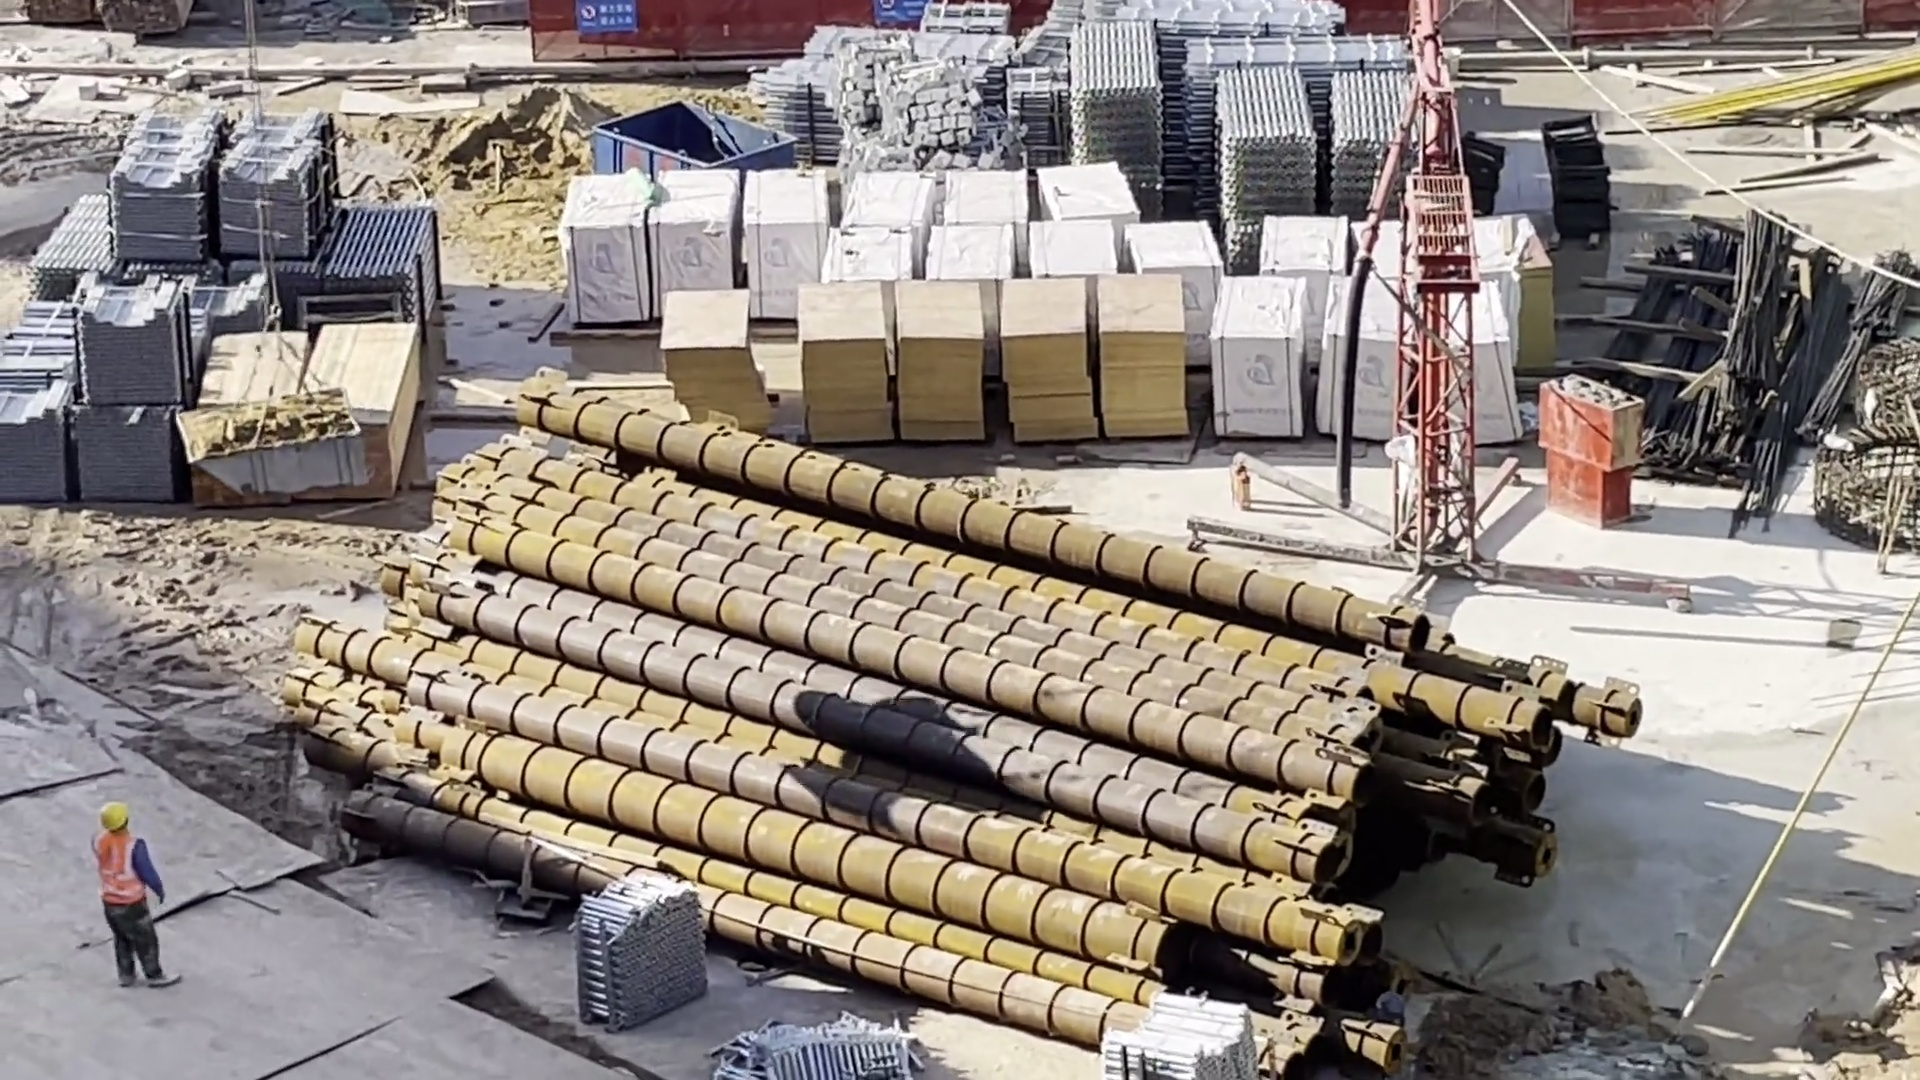board: (1081, 263, 1178, 438), (990, 282, 1078, 457), (900, 297, 988, 455), (319, 339, 411, 485), (795, 292, 876, 449), (669, 289, 748, 422)
fence: (534, 1, 996, 64), (1369, 4, 1920, 47)
helmet: (99, 805, 128, 828)
hopper: (195, 414, 363, 494), (595, 113, 792, 173)
person: (84, 796, 180, 996)
rebar: (1747, 269, 1840, 485), (1639, 239, 1734, 428), (1818, 251, 1905, 428), (1585, 269, 1661, 416), (1725, 235, 1801, 375)
scaffold: (565, 878, 721, 1022), (1216, 76, 1312, 211), (736, 1017, 903, 1080), (1077, 35, 1171, 139), (338, 213, 439, 304), (1125, 1011, 1256, 1080), (1340, 85, 1403, 211), (33, 197, 115, 288), (1177, 41, 1385, 73), (1141, 1, 1328, 36), (1005, 77, 1064, 151)
slogan: (570, 1, 641, 25), (878, 1, 928, 19)
vest: (92, 835, 144, 908)
wood: (205, 332, 280, 503), (111, 3, 185, 33), (33, 1, 92, 31)
